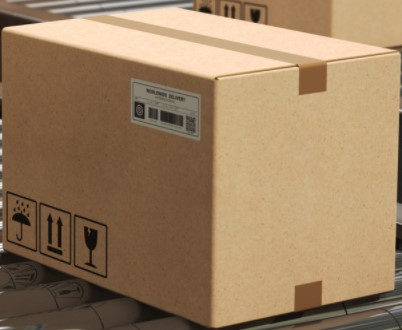stock: (3, 10, 402, 329)
